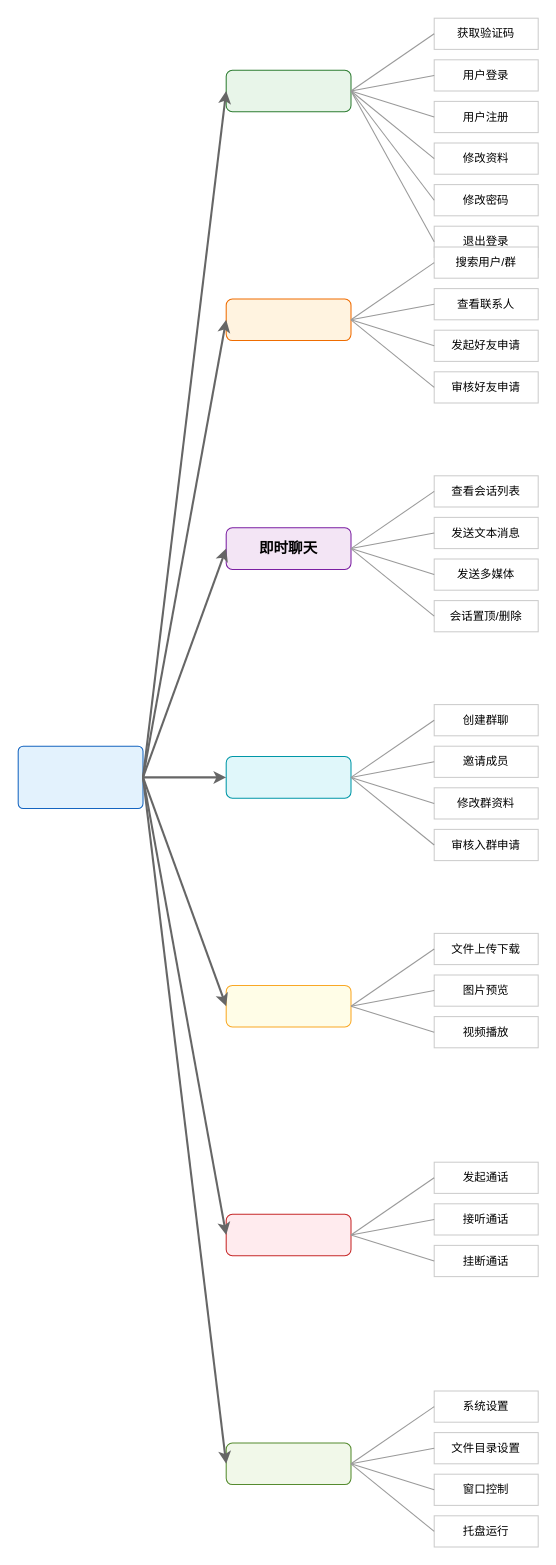
The diagram is 556 pixels wide and 1565 high, and some of its shapes have lost their labels. The centre of each missing label's shape, as x and y in pixels:
文件与媒体: the point at 288,1005
普通用户: the point at 80,777
本地设置: the point at 288,1463
群聊操作: the point at 288,777
联系人管理: the point at 288,319
视频通话: the point at 288,1234
账号与认证: the point at 288,90
